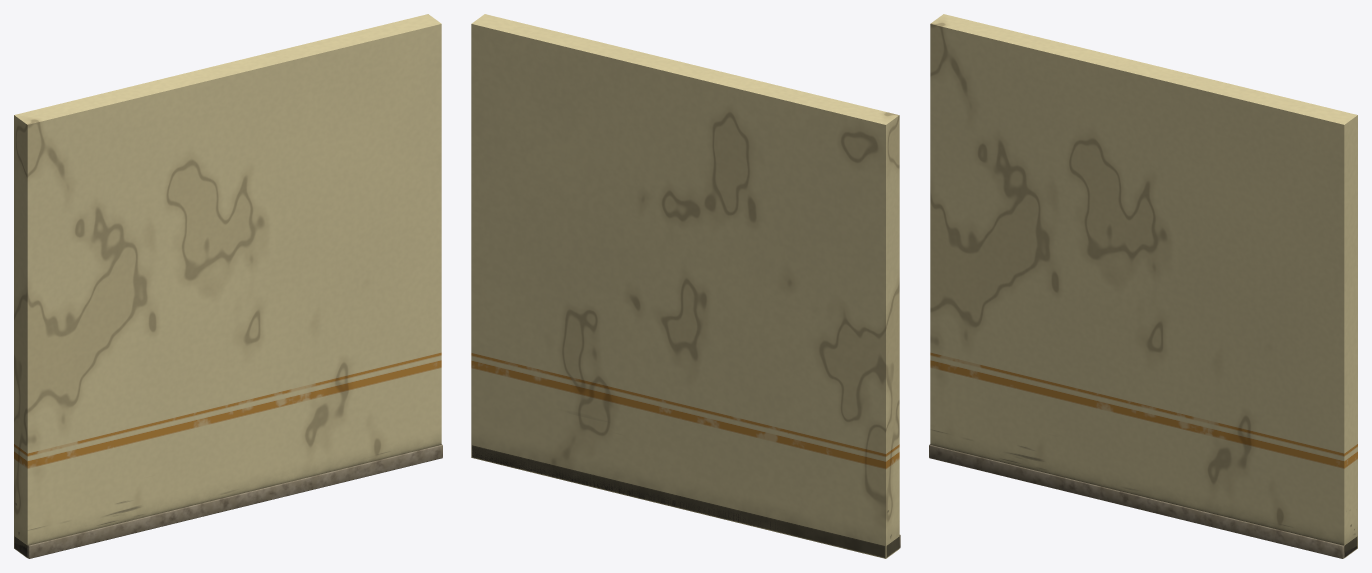
The model's file is wall_pastel.fbx.
The picture shows the model from 3 angles, left to right: view 1: azimuth 30°, elevation 25°; view 2: azimuth 150°, elevation 25°; view 3: azimuth 330°, elevation 25°; orthographic projection.
Parts seen in each view (by area): view 1: Body; view 2: Body; view 3: Body.
Boxes of the visible parts, <box> form: Body: <box>14,14,442,558</box>; Body: <box>471,14,900,558</box>; Body: <box>929,14,1357,558</box>.
Bounding box in the file's own units: 16 × 16 × 1.
1 material, 1 textured.
